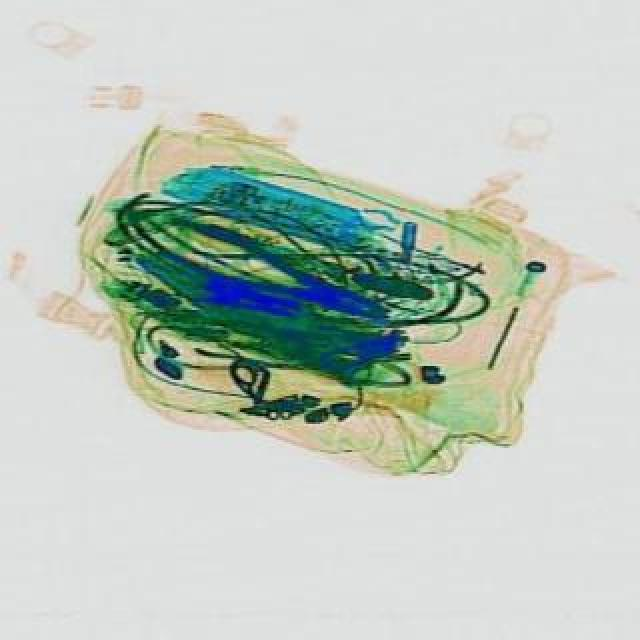wrench: (160, 214, 402, 342)
